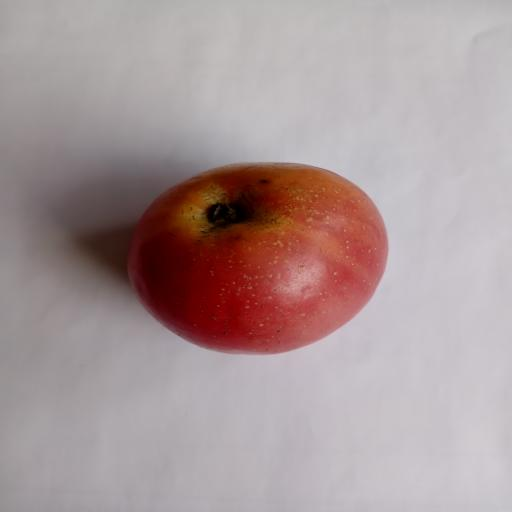apple-ripe: (116, 159, 398, 359)
